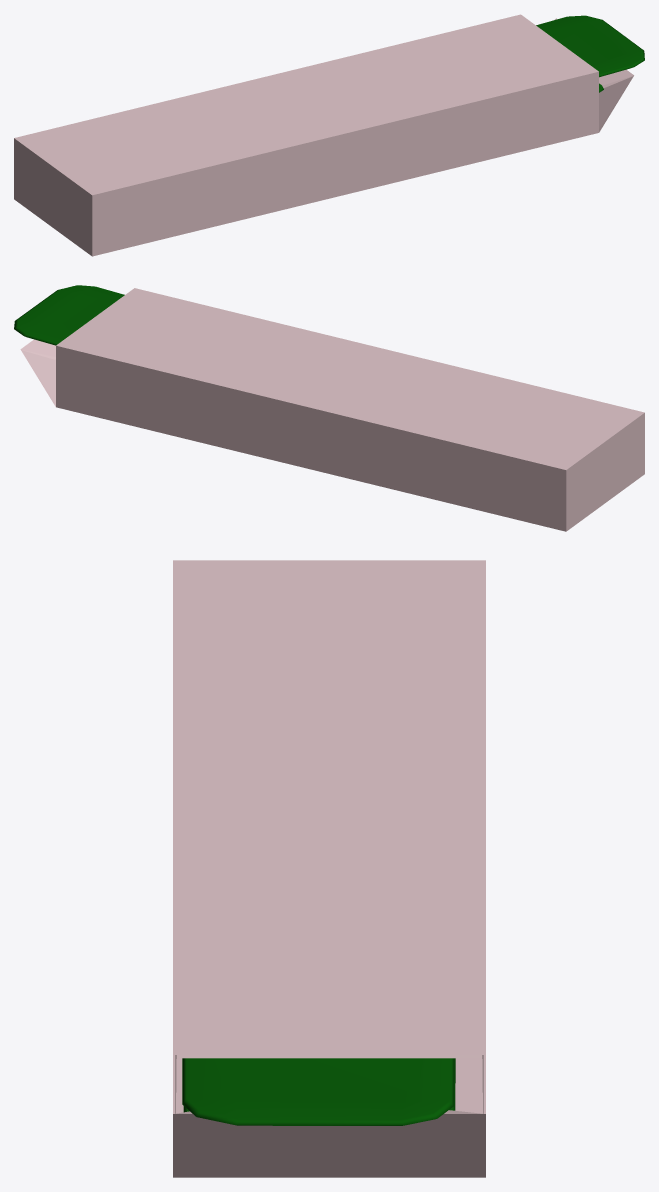
The model's file is band-aid.obj.
3 views of the same model, one above another, from view 1: azimuth 30°, elevation 25°; view 2: azimuth 150°, elevation 25°; view 3: azimuth 270°, elevation 25° (orthographic). The views are drawn at different scales.
Visible parts, largest first — view 1: polySurface8; view 2: polySurface8; view 3: polySurface8.
Part boxes in pixels (x1=…): polySurface8: x1=14, y1=14, x2=644, y2=256; polySurface8: x1=14, y1=285, x2=644, y2=531; polySurface8: x1=173, y1=560, x2=485, y2=1177.
Size of the model in its own units: 23.63 by 2.43 by 5.64.
